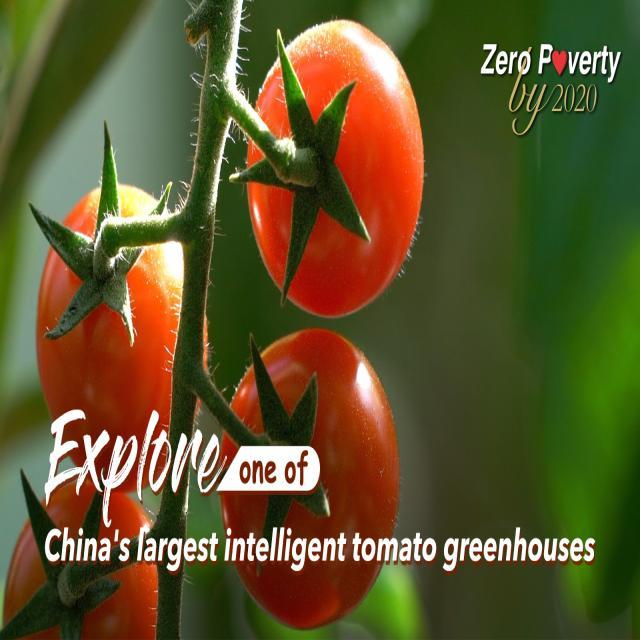sari: (242, 48, 452, 312), (28, 186, 146, 406)
